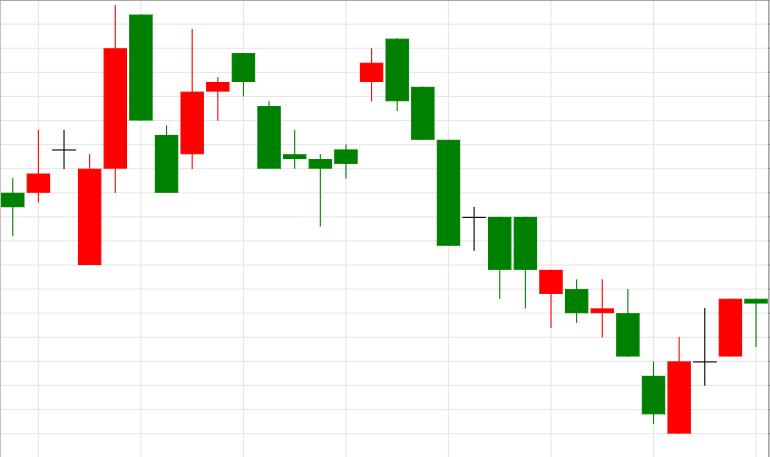bullish_engulfing_rise: (386, 38, 691, 435)
